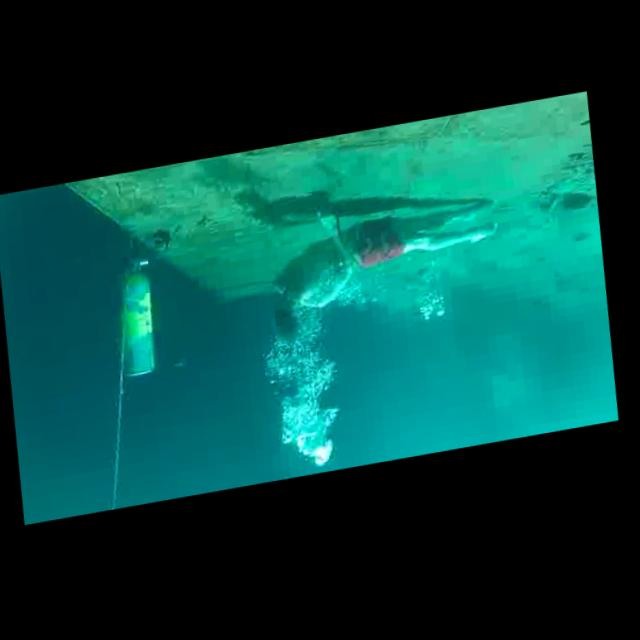human: (256, 173, 521, 348)
